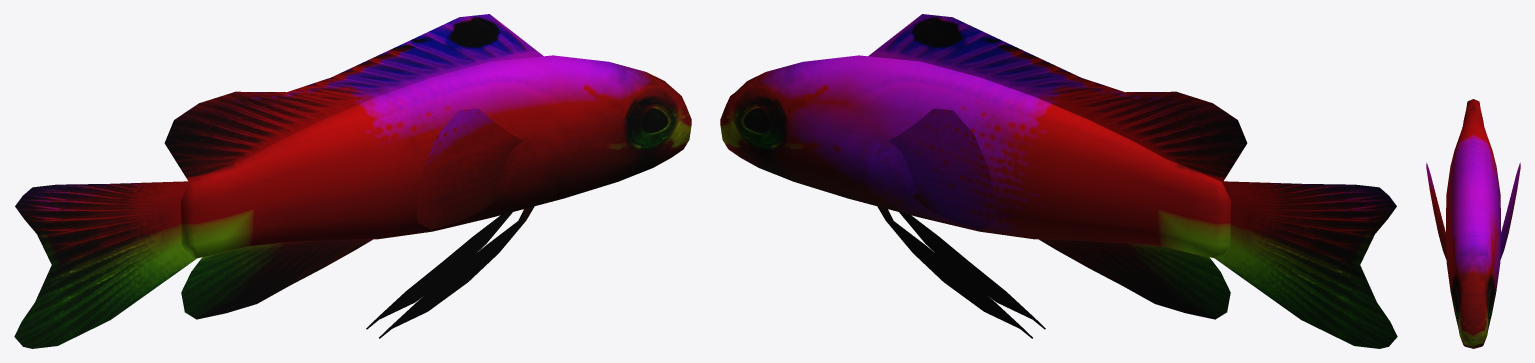
The model's file is royal_gramma.glb.
3 renders of one model, left to right at view 1: azimuth 30°, elevation 25°; view 2: azimuth 150°, elevation 25°; view 3: azimuth 270°, elevation 25°, orthographic. The views are drawn at different scales.
Visible parts, largest first — view 1: RoyalGramma; view 2: RoyalGramma; view 3: RoyalGramma.
Part boxes in pixels (box(x1,y1,x2,y2)): RoyalGramma: box(14, 14, 691, 348); RoyalGramma: box(720, 14, 1397, 348); RoyalGramma: box(1426, 99, 1520, 348).
Bounding box in the file's own units: 1 × 0.4177 × 0.1558.
1 material, 1 textured.
